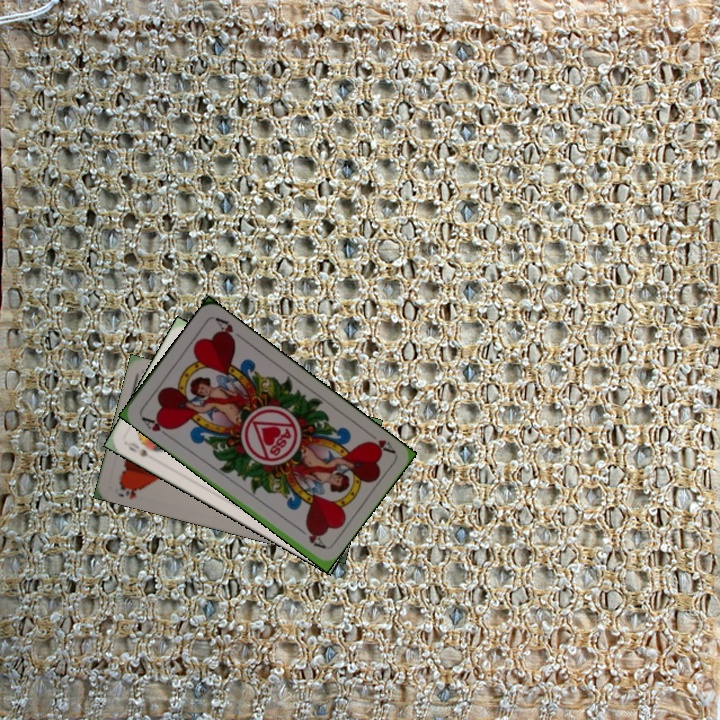HA: (137, 412, 175, 440), (362, 427, 397, 456)
HO: (114, 479, 144, 502)
SO: (122, 438, 151, 459)
